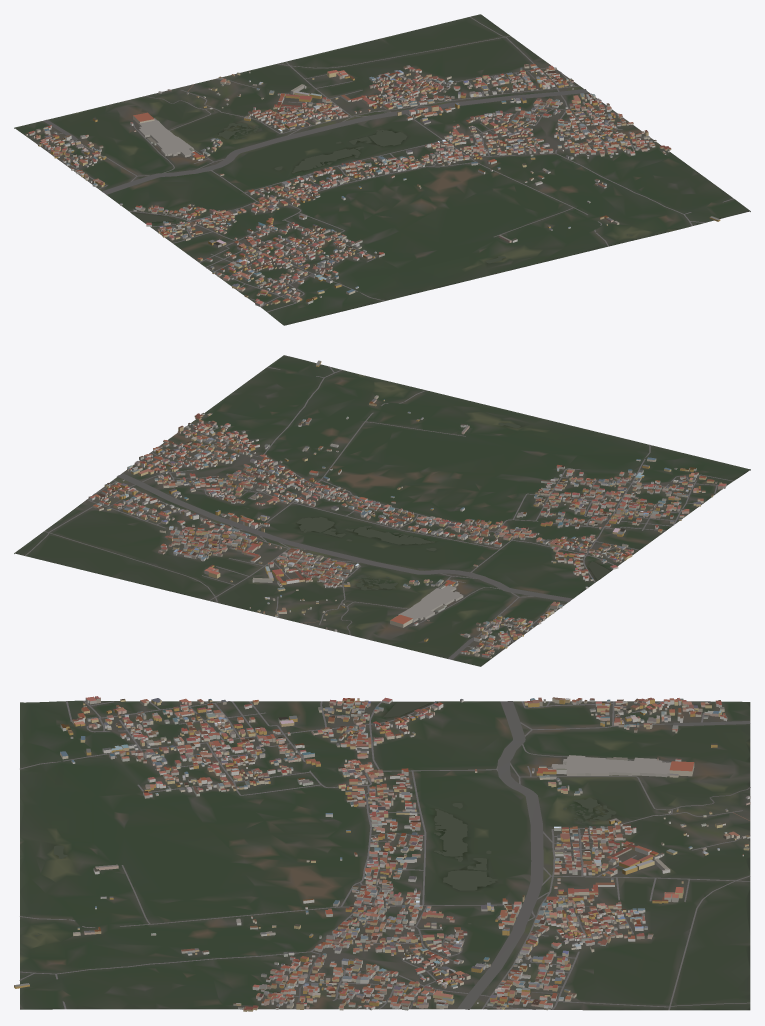
3 views of the same model, one above another, from view 1: azimuth 30°, elevation 25°; view 2: azimuth 150°, elevation 25°; view 3: azimuth 270°, elevation 25° (orthographic). The views are drawn at different scales.
Parts seen in each view (by area): view 1: ground, buildings, roads, water; view 2: ground, buildings, roads, water; view 3: ground, buildings, roads, water.
Part boxes in pixels (bbox=[...]): ground: bbox=[14, 14, 750, 325]; buildings: bbox=[25, 64, 720, 306]; roads: bbox=[43, 16, 733, 312]; water: bbox=[132, 120, 632, 263]; ground: bbox=[14, 355, 750, 666]; buildings: bbox=[88, 360, 726, 658]; roads: bbox=[25, 366, 733, 659]; water: bbox=[246, 387, 610, 590]; ground: bbox=[20, 700, 750, 1010]; buildings: bbox=[14, 696, 750, 1011]; roads: bbox=[19, 700, 750, 1010]; water: bbox=[34, 701, 616, 936].
Bounding box in the file's own units: 1417 × 17.5 × 1414.
